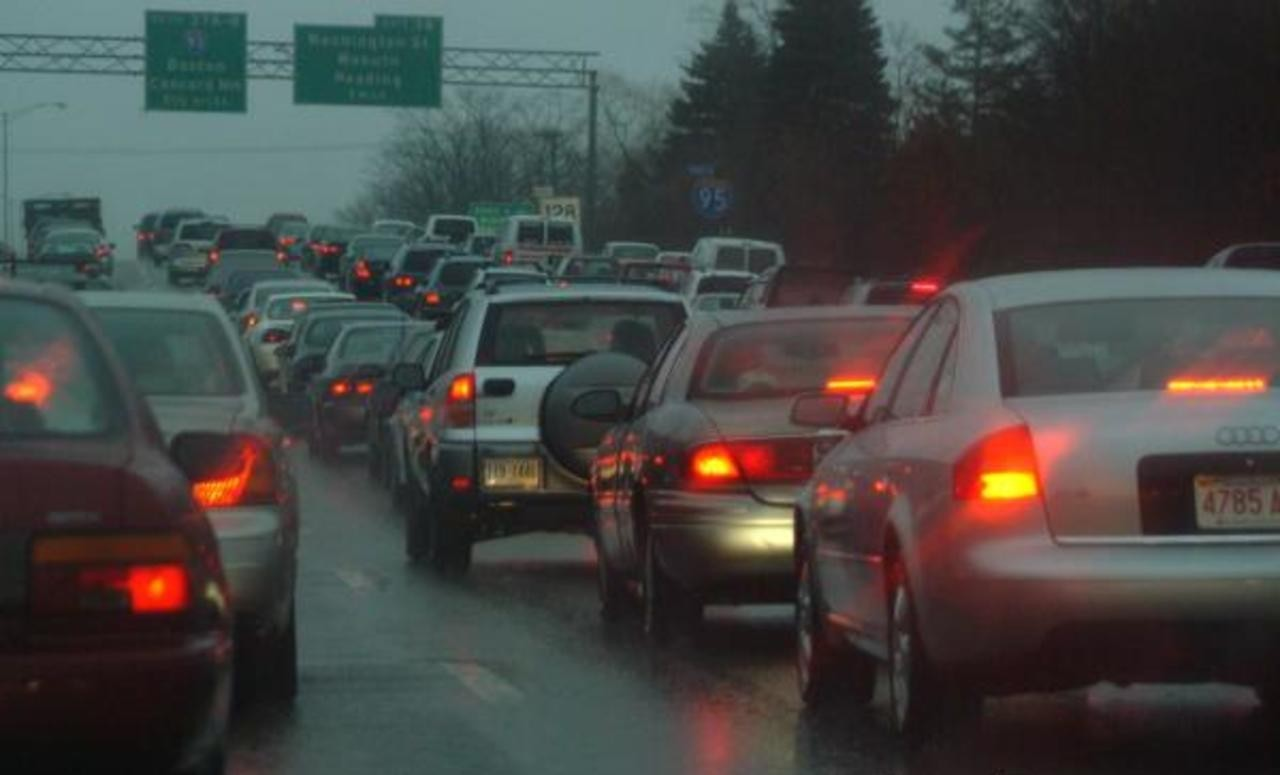car: (803, 257, 1279, 763), (581, 296, 932, 637), (55, 277, 299, 714), (5, 277, 220, 767), (380, 277, 685, 584), (300, 320, 425, 463), (201, 223, 284, 271), (495, 214, 578, 260), (421, 255, 482, 308), (250, 292, 284, 374), (343, 241, 389, 290), (390, 242, 448, 279), (305, 222, 335, 262)
